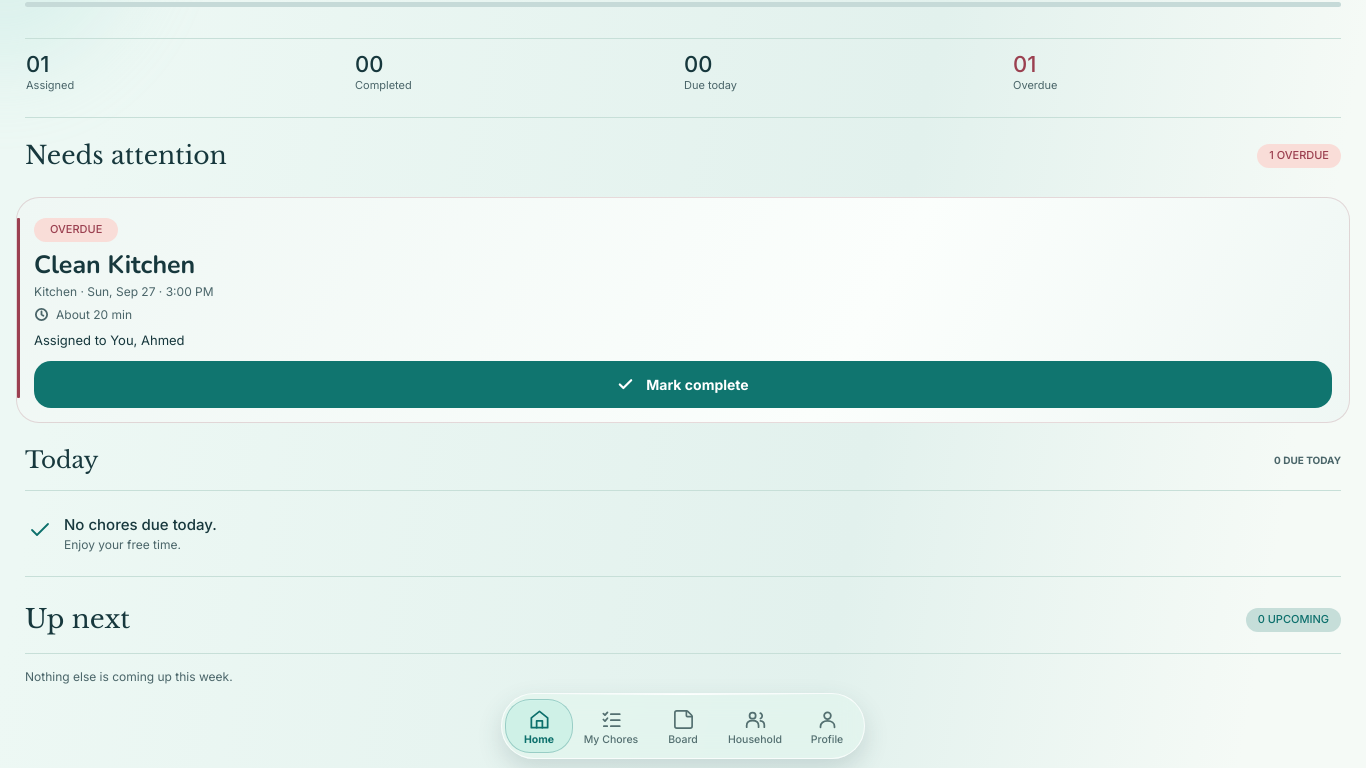
Test: server-backed chore data › renders live dashboard summary and assignment data, then completes and refreshes it
(page scrolled)
Check: the heading "Today" is shown, box x1=25 y1=447 x2=98 y2=474
Check: the text "Assigned to You, Ahmed" is shown once, box x1=34 y1=332 x2=185 y2=348
Click the button "Mark complete" at (683,384), box x1=34 y1=361 x2=1332 y2=408
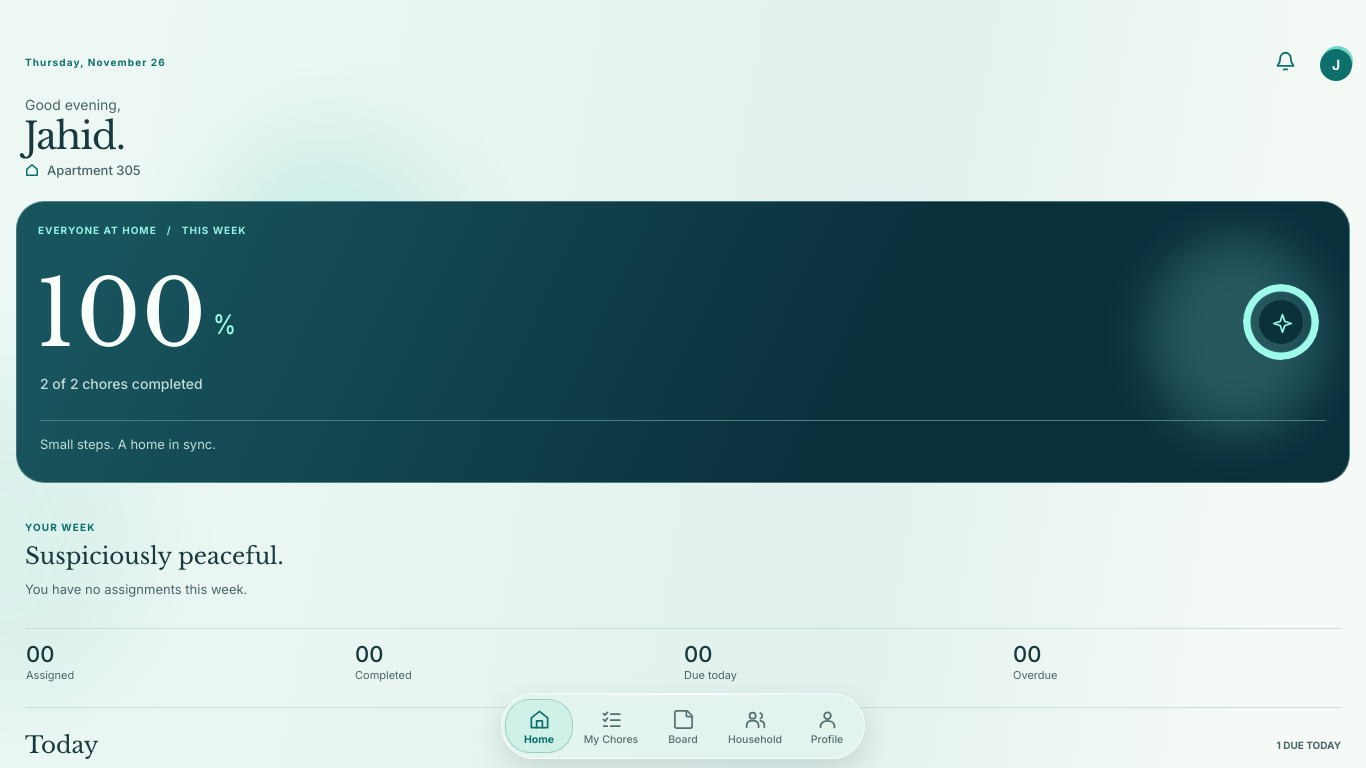
Check: the text "2 of 2 chores completed" is shown, box x1=40 y1=375 x2=203 y2=393
